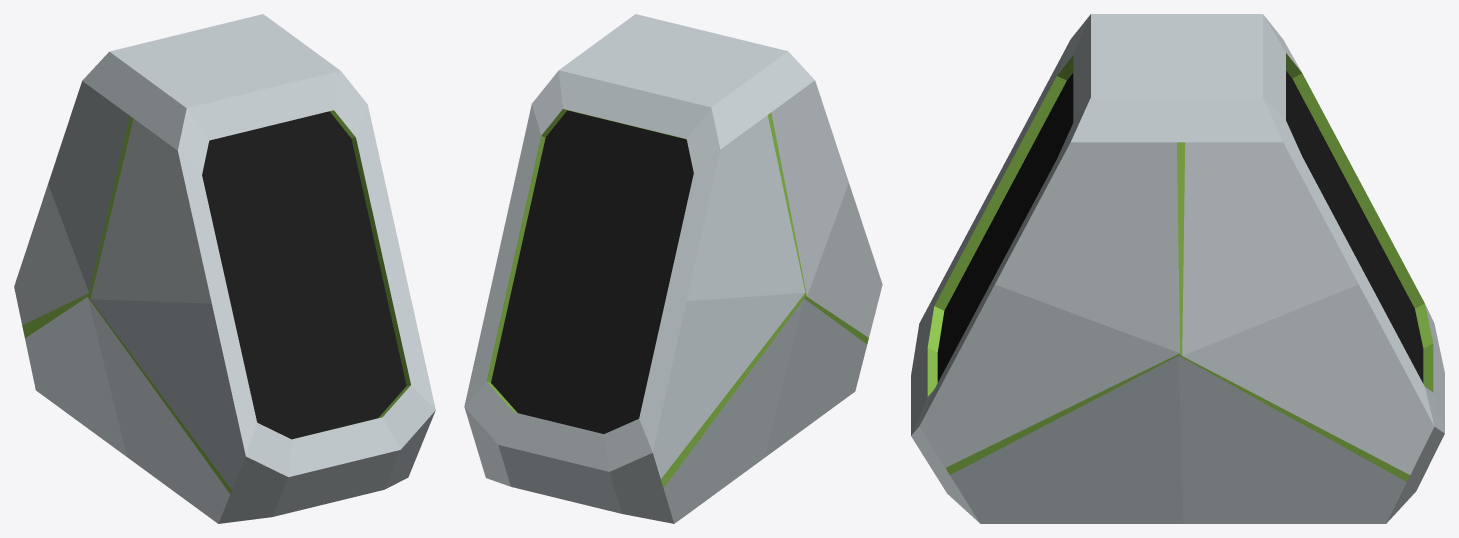
The model's file is alien computer.fbx.
The picture shows the model from 3 angles, left to right: view 1: azimuth 30°, elevation 25°; view 2: azimuth 150°, elevation 25°; view 3: azimuth 270°, elevation 25°; orthographic projection. The views are drawn at different scales.
Visible parts, largest first — view 1: group_1675599341; view 2: group_1675599341; view 3: group_1675599341.
Boxes of the visible parts, x1=… form: group_1675599341: x1=14, y1=14, x2=435, y2=523; group_1675599341: x1=464, y1=14, x2=882, y2=523; group_1675599341: x1=911, y1=14, x2=1444, y2=523.
Bounding box in the file's own units: 26.93 × 35.7 × 41.45.
